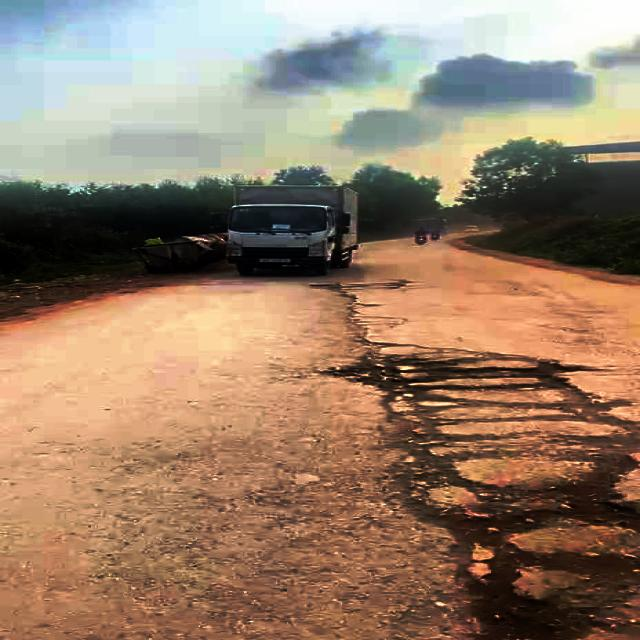pothole: (386, 471, 640, 640), (330, 347, 626, 469)
